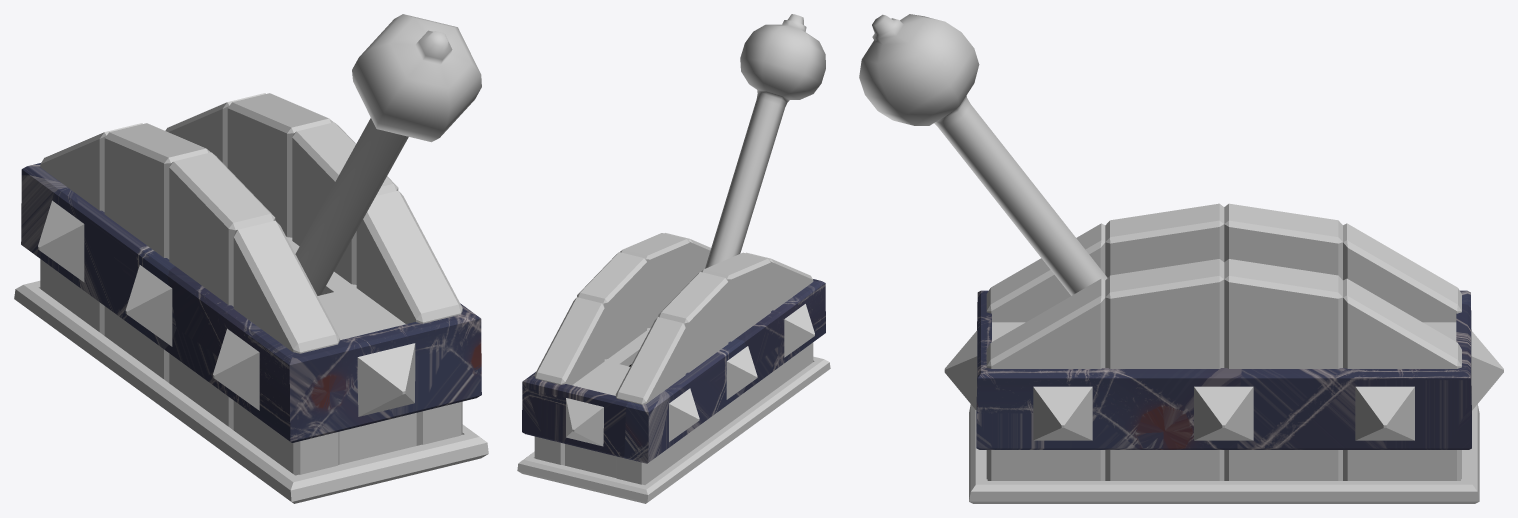
The model's file is lever.fbx.
The picture shows the model from 3 angles, left to right: view 1: azimuth 30°, elevation 25°; view 2: azimuth 150°, elevation 25°; view 3: azimuth 270°, elevation 25°; orthographic projection. The views are drawn at different scales.
Visible parts, largest first — view 1: planks.001, hoop.004, lever.001, bottom_hoop.001, podstawa.004, boop.004, boop.006, boop.007, boop.005; view 2: planks.001, hoop.004, lever.001, bottom_hoop.001, podstawa.004, boop.004, boop.006, boop.005, boop.007; view 3: planks.001, hoop.004, lever.001, bottom_hoop.001, boop.005, boop.006, boop.007, boop.004, podstawa.004.
Boxes of the visible parts, bbox=[...] form: planks.001: bbox=[40, 93, 462, 475]; hoop.004: bbox=[21, 163, 481, 442]; lever.001: bbox=[295, 14, 481, 295]; bottom_hoop.001: bbox=[14, 280, 488, 503]; podstawa.004: bbox=[286, 236, 416, 464]; boop.004: bbox=[357, 343, 415, 416]; boop.006: bbox=[125, 265, 172, 346]; boop.007: bbox=[38, 200, 84, 282]; boop.005: bbox=[213, 328, 259, 410]; planks.001: bbox=[534, 233, 813, 484]; hoop.004: bbox=[522, 279, 825, 463]; lever.001: bbox=[705, 14, 825, 268]; bottom_hoop.001: bbox=[517, 356, 830, 503]; podstawa.004: bbox=[565, 328, 650, 477]; boop.004: bbox=[566, 398, 603, 446]; boop.006: bbox=[726, 346, 757, 399]; boop.005: bbox=[784, 304, 814, 357]; boop.007: bbox=[669, 388, 699, 441]; planks.001: bbox=[986, 203, 1461, 480]; hoop.004: bbox=[976, 290, 1471, 449]; lever.001: bbox=[859, 14, 1107, 295]; bottom_hoop.001: bbox=[969, 404, 1479, 503]; boop.005: bbox=[1033, 386, 1092, 440]; boop.006: bbox=[1194, 386, 1253, 440]; boop.007: bbox=[1355, 386, 1414, 440]; boop.004: bbox=[944, 330, 1503, 410]; podstawa.004: bbox=[992, 322, 1456, 341].
Bounding box in the file's own units: 112 × 210 × 271.
